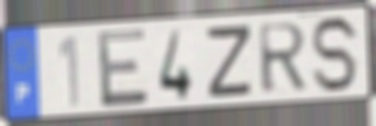1: (57, 35, 81, 109)
4: (156, 26, 198, 104)
E: (94, 25, 151, 112)
R: (255, 20, 310, 97)
S: (310, 13, 362, 96)
Z: (205, 21, 255, 101)
